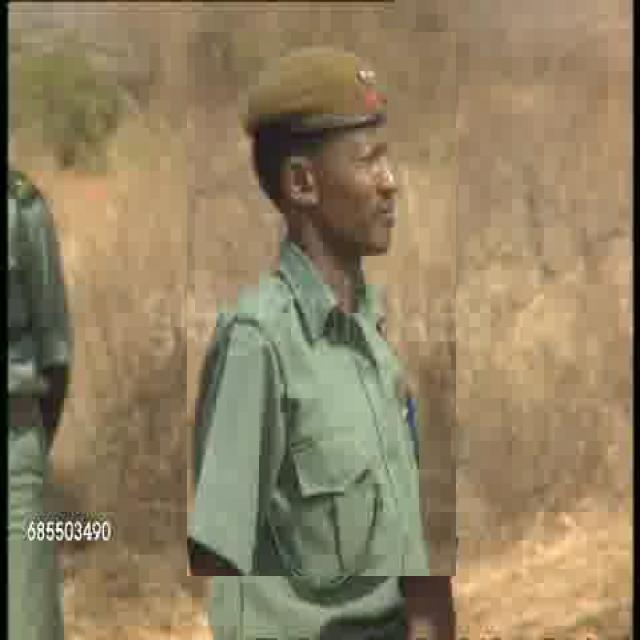poacher: (187, 32, 456, 576)
